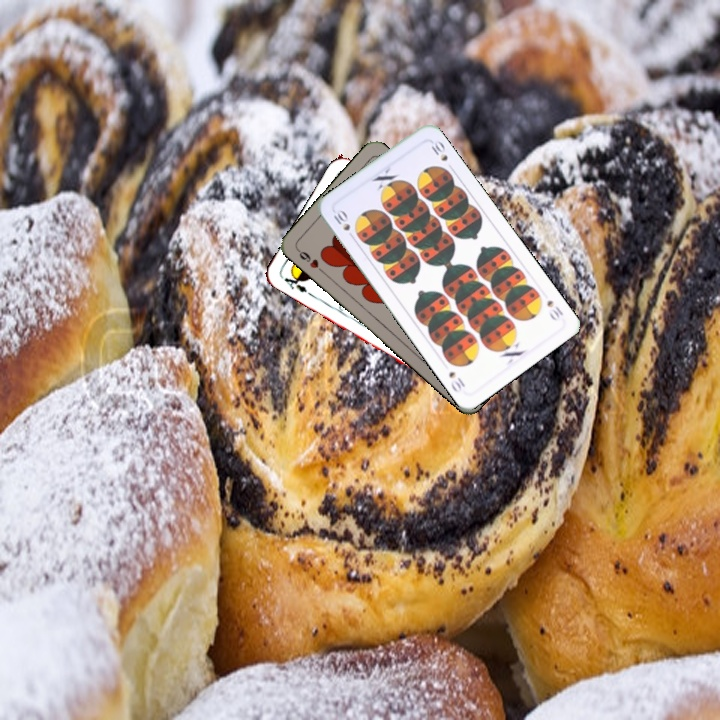EA: (280, 269, 310, 295)
H9: (293, 245, 326, 276)
S10: (329, 205, 357, 242), (543, 296, 566, 323)
